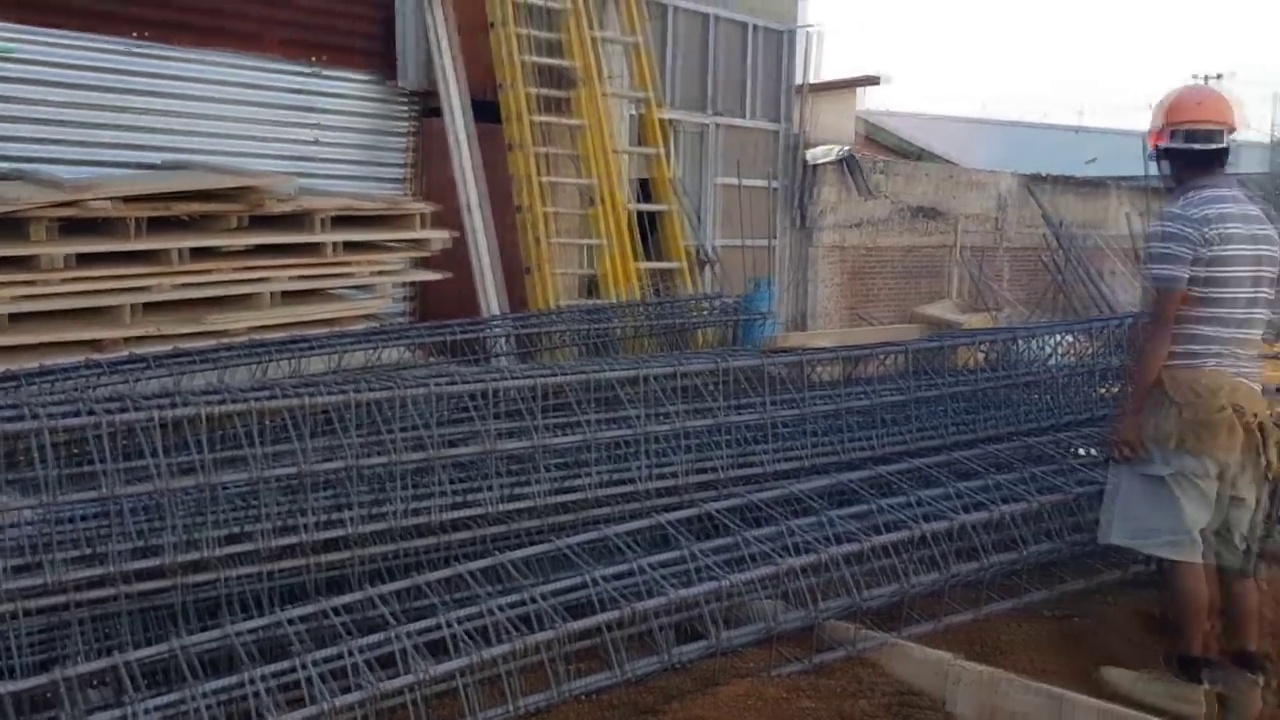helmet: (1146, 77, 1248, 162)
helmet-on: (1149, 77, 1248, 190)
person: (1103, 79, 1262, 647)
